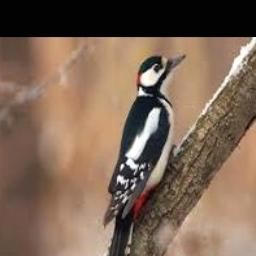Woodpecker: (104, 53, 187, 256)
